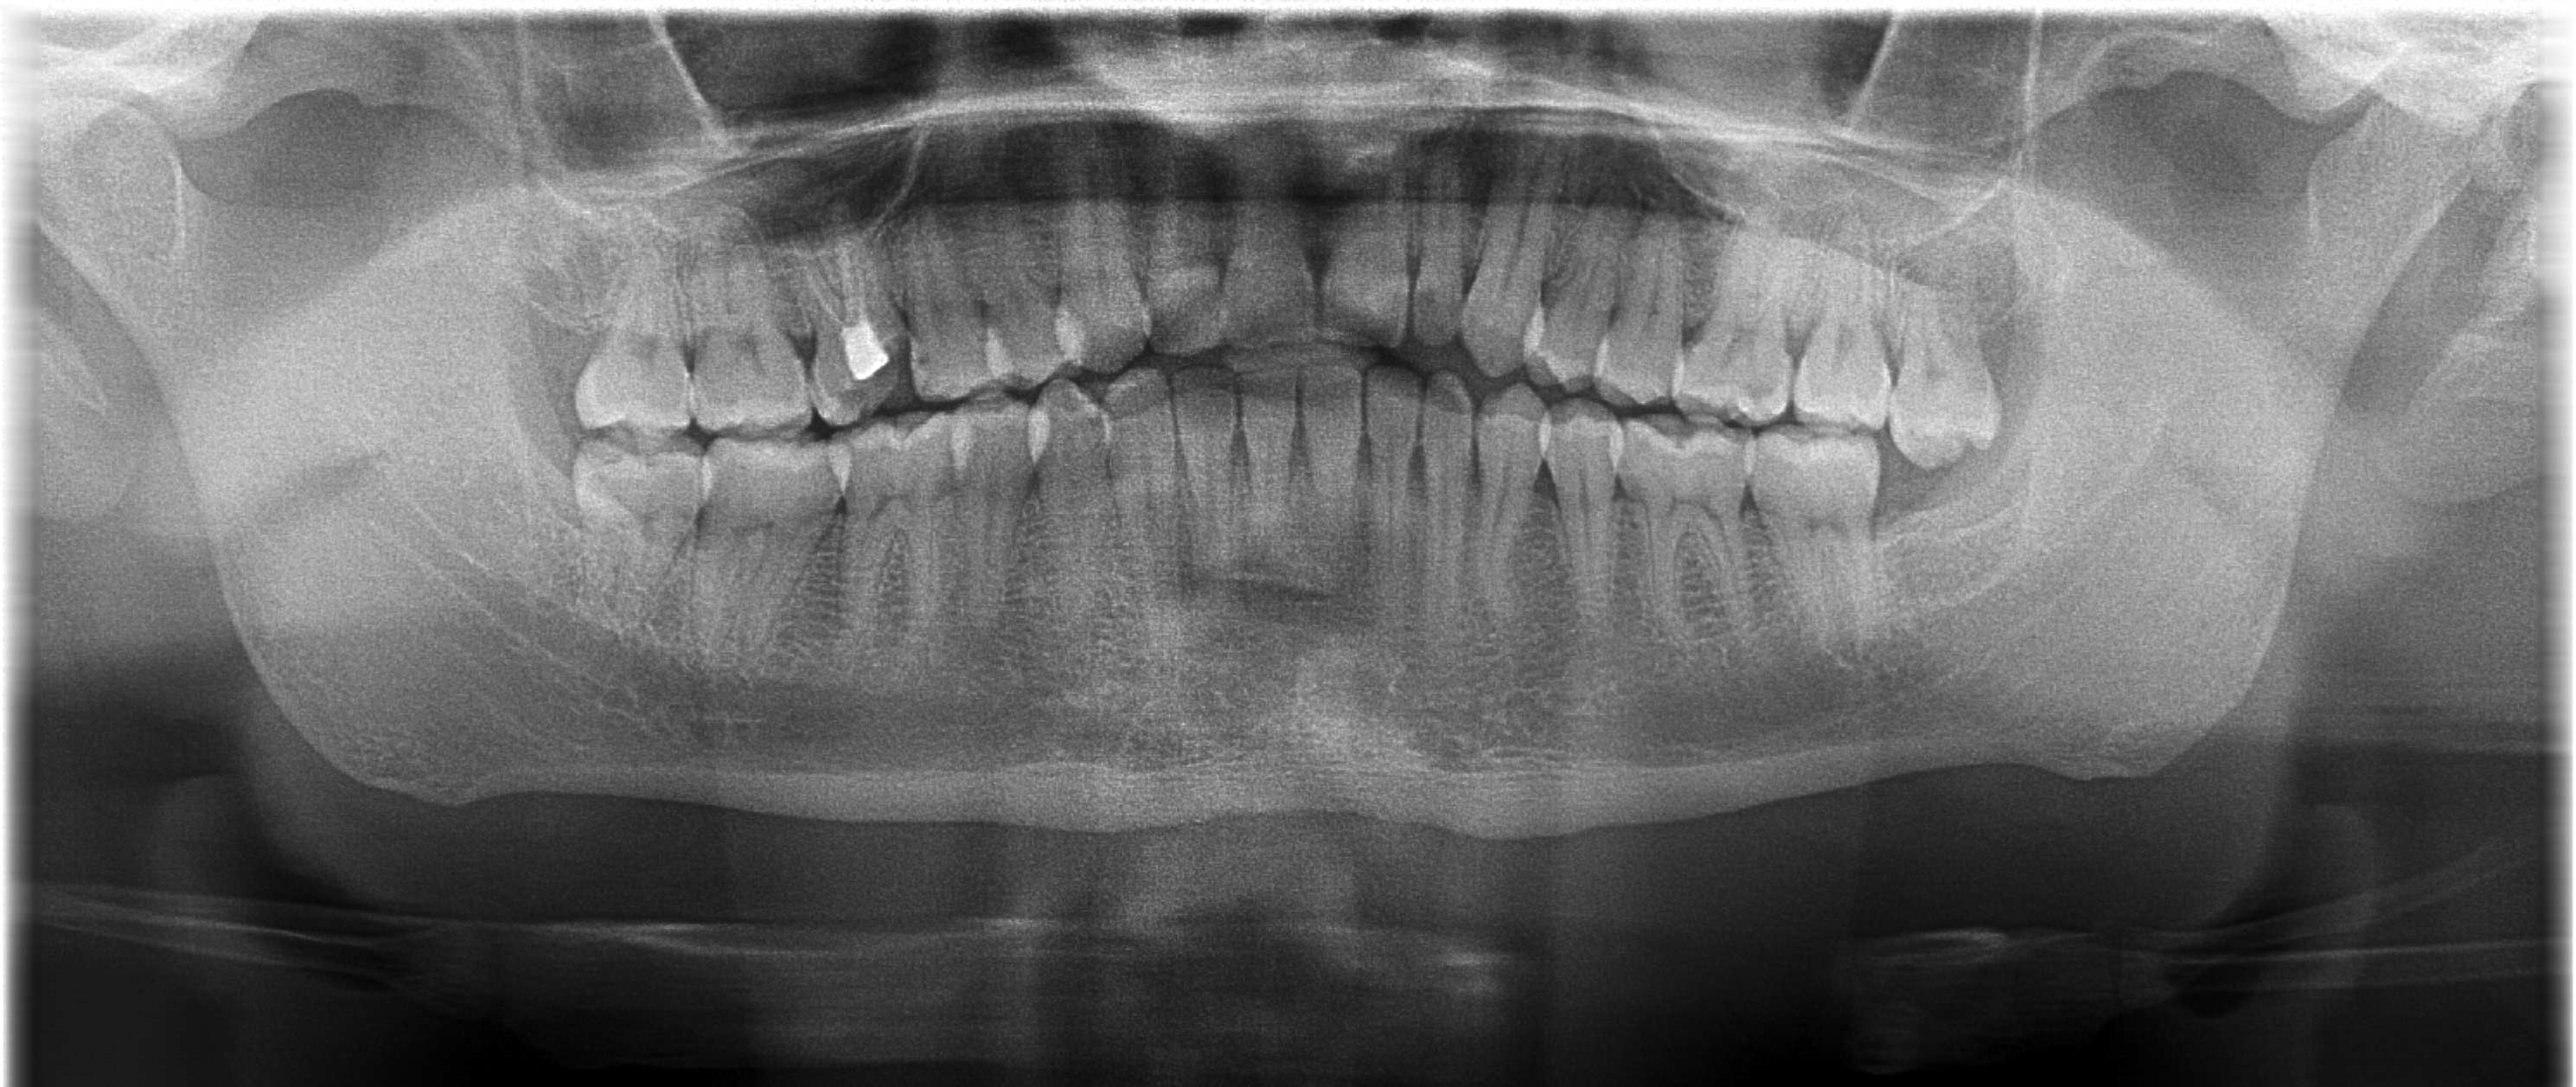cordal: (1879, 228, 2042, 486), (554, 230, 739, 452), (544, 420, 726, 634)
tratamiento_conducto: (761, 182, 936, 445)
